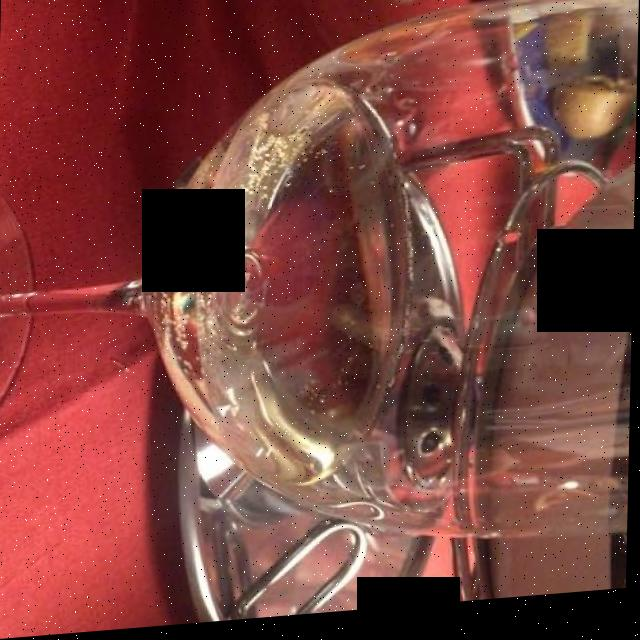wine-white: (165, 80, 415, 527), (148, 83, 399, 452)
